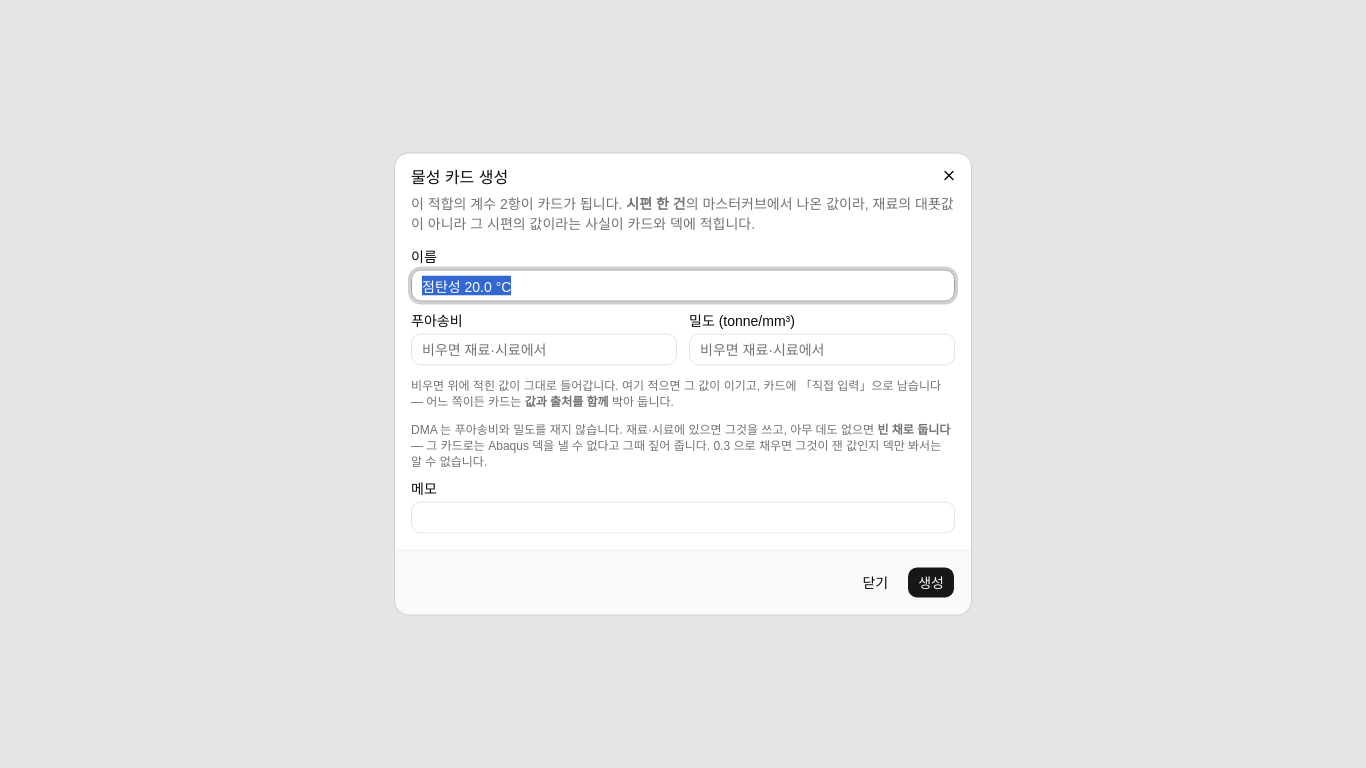
Test: 점탄성 카드 생성 › 이름이 비면 못 만든다
The width and height of the screenshot is (1366, 768).
Step 1. Clear the field labelled "이름" → (683, 286), box [411,270,955,302]
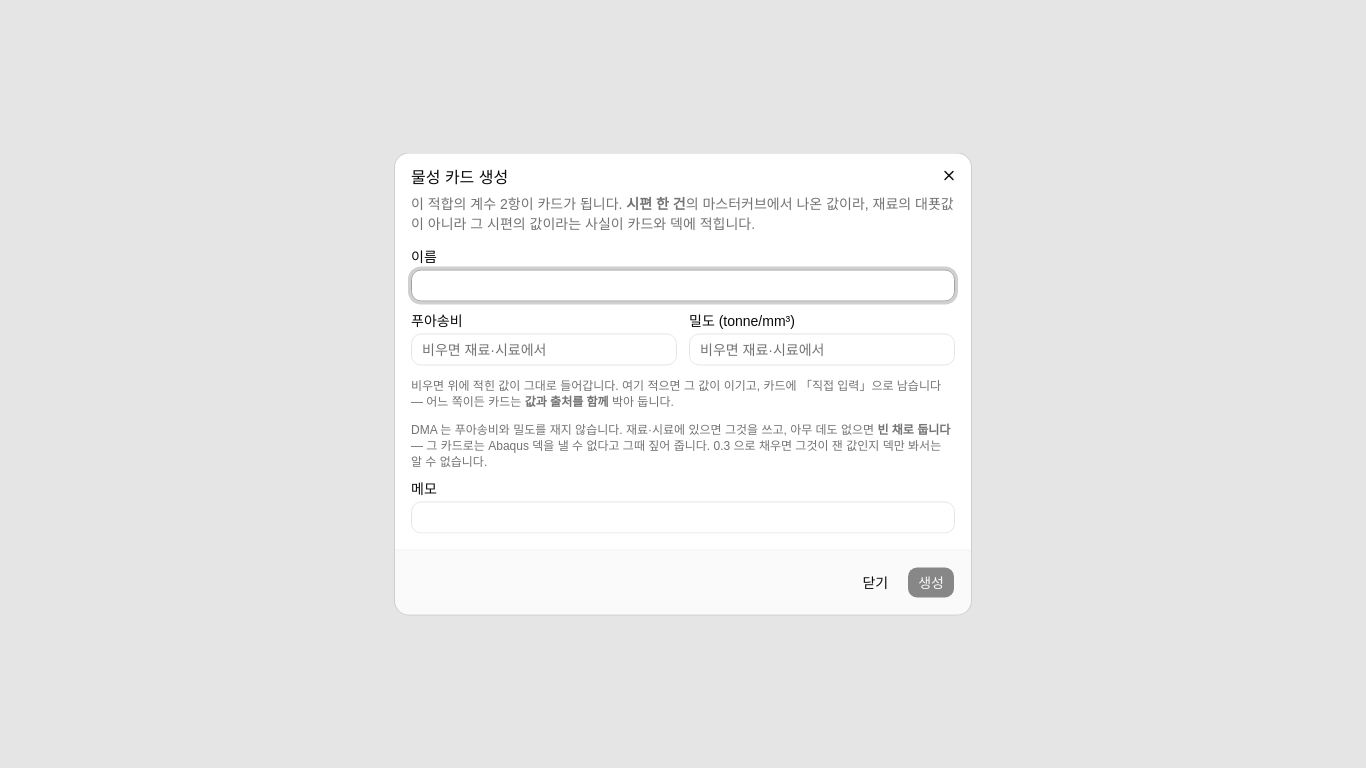
Expected: the button "생성" is disabled, [907,566,955,598]
